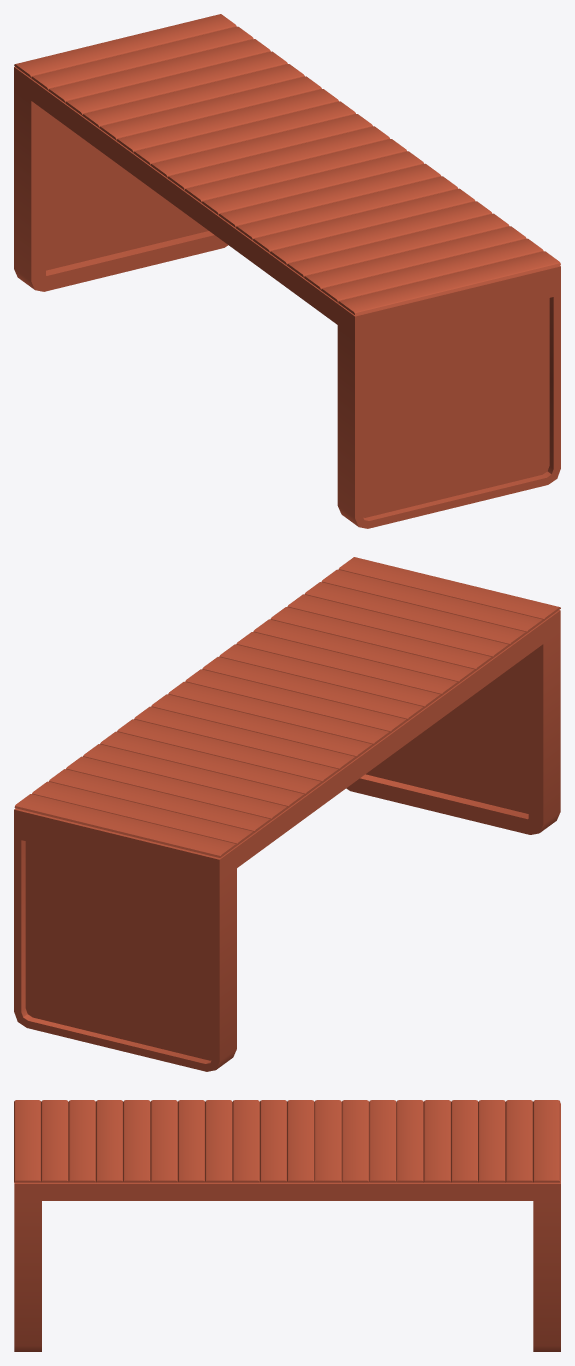
Rendered from SM_Bench.fbx.
3 views of the same model, one above another, from view 1: azimuth 30°, elevation 25°; view 2: azimuth 150°, elevation 25°; view 3: azimuth 270°, elevation 25° (orthographic). The views are drawn at different scales.
Parts seen in each view (by area): view 1: Cube.003, Cube.004; view 2: Cube.003, Cube.004; view 3: Cube.004, Cube.003.
Boxes of the visible parts, x1,y1,x2,y2 form: Cube.003: (14,66,560,528); Cube.004: (14,14,560,315); Cube.003: (14,610,560,1071); Cube.004: (14,557,560,857); Cube.004: (14,1100,560,1182); Cube.003: (14,1103,560,1351).
Bounding box in the file's own units: 84.16 × 85.6 × 241.
